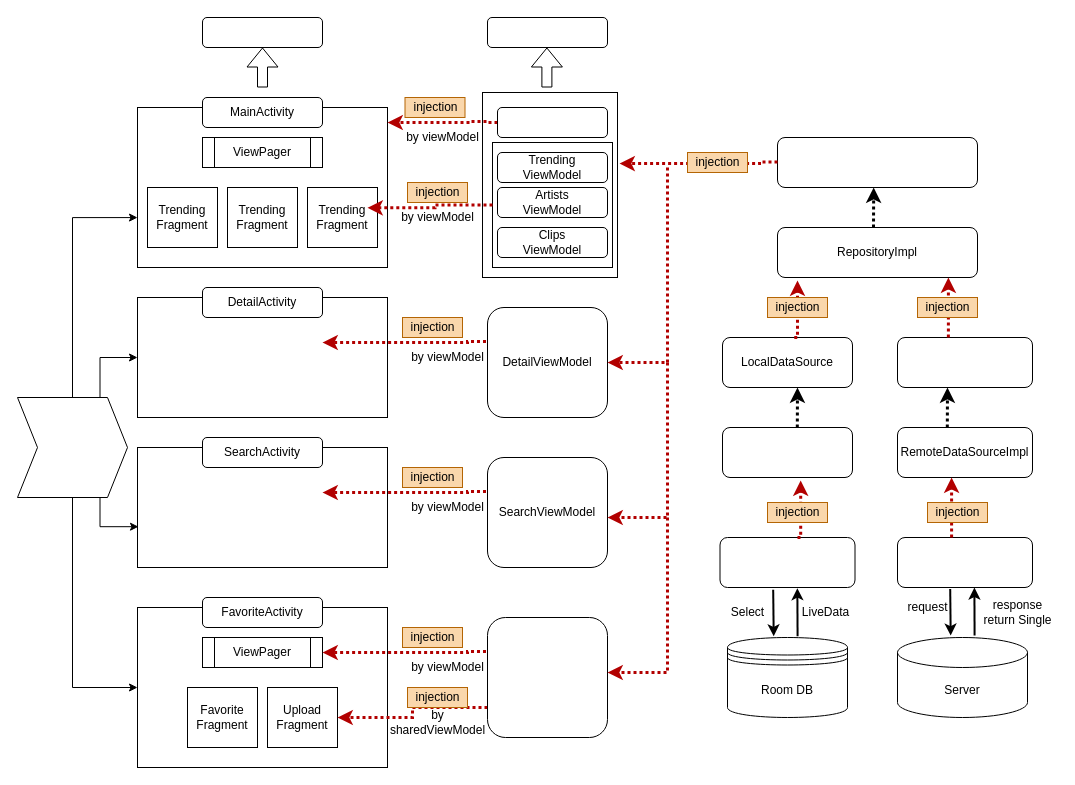
The diagram is 1075 pixels wide and 785 high, and some of its shapes have lost their labels. Each missing label, with the box of its shape:
APIService: (896, 536, 1032, 588)
BaseActivity: (202, 16, 322, 48)
BaseViewModel: (486, 16, 608, 48)
FavoriteDao: (719, 536, 855, 588)
FavoriteViewModel: (486, 616, 608, 738)
LocalDataSourceImpl: (722, 426, 852, 478)
MainViewModel: (496, 106, 608, 138)
RemoteDataSource: (896, 336, 1032, 388)
Repository: (776, 136, 978, 188)
Staggered Adapter (RecyclerView Adapter): (16, 396, 128, 498)
